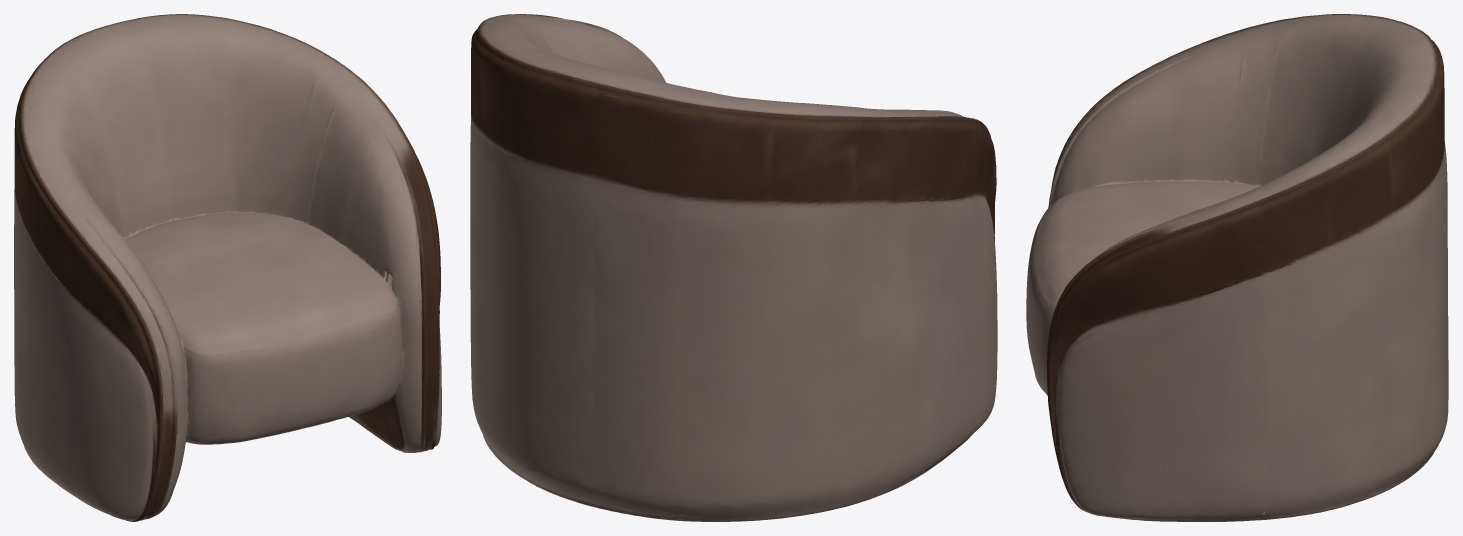
The model's file is modern_upholstered_armchair_fmkr41.glb.
3 views of the same model, side by side, from view 1: azimuth 30°, elevation 25°; view 2: azimuth 150°, elevation 25°; view 3: azimuth 270°, elevation 25° (orthographic). The views are drawn at different scales.
Parts seen in each view (by area): view 1: world; view 2: world; view 3: world.
Part boxes in pixels (left/top/right/bottom): world: left=14, top=14, right=441, bottom=521; world: left=470, top=14, right=997, bottom=521; world: left=1026, top=14, right=1448, bottom=521.
Bounding box in the file's own units: 1 × 0.948 × 0.9687.
1 material, 1 textured.
